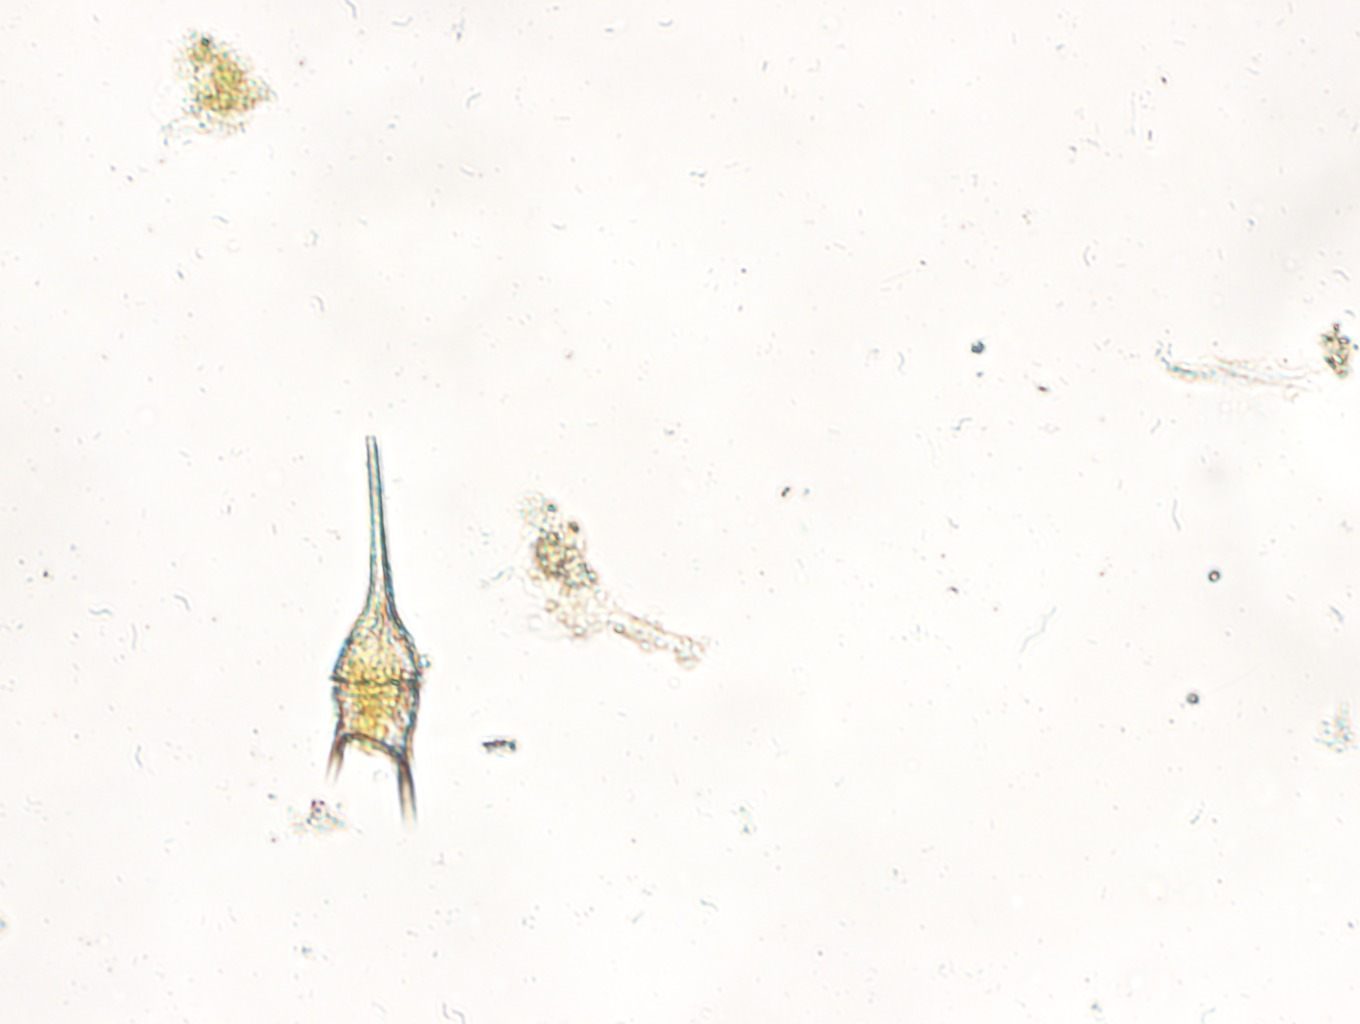ceratium furca: (320, 428, 430, 824)
